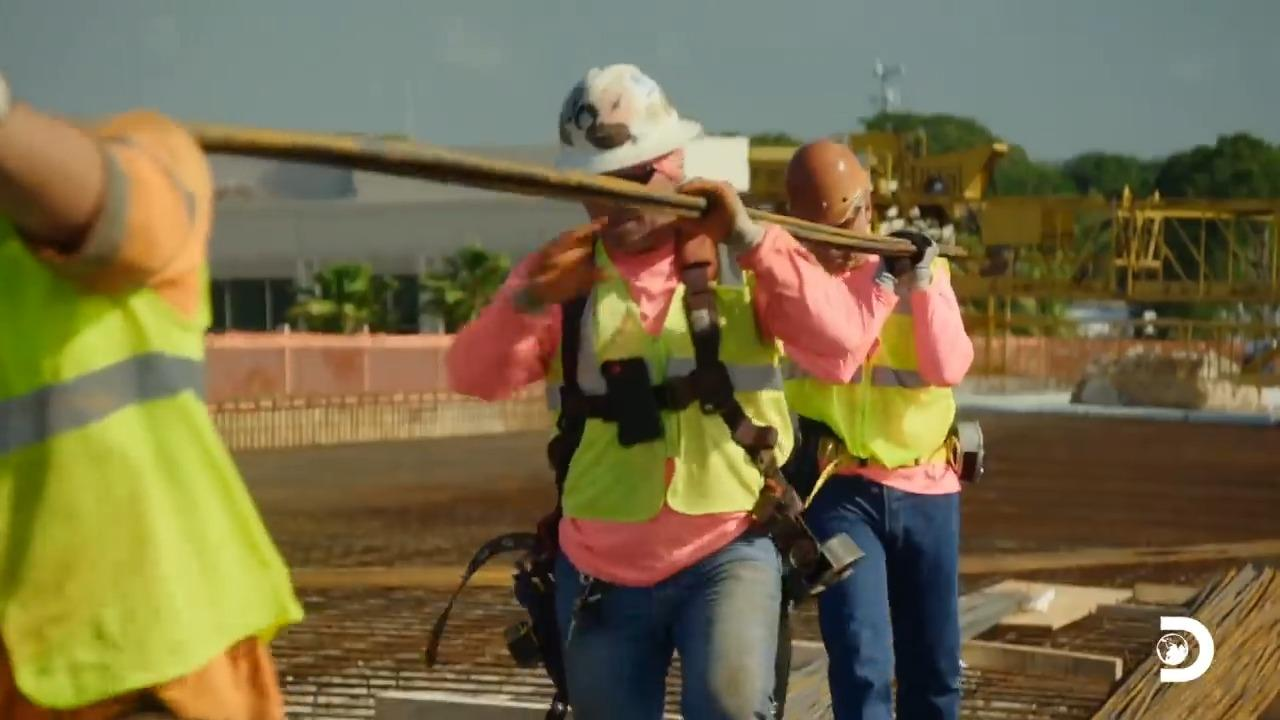Gloves: (522, 238, 605, 318), (673, 183, 743, 245), (885, 220, 948, 285)
Helmet: (555, 62, 702, 174), (784, 138, 873, 228)
Person: (0, 79, 305, 719), (673, 138, 976, 719)
Safety Vest: (11, 278, 259, 648), (551, 273, 752, 501), (776, 286, 933, 482)
